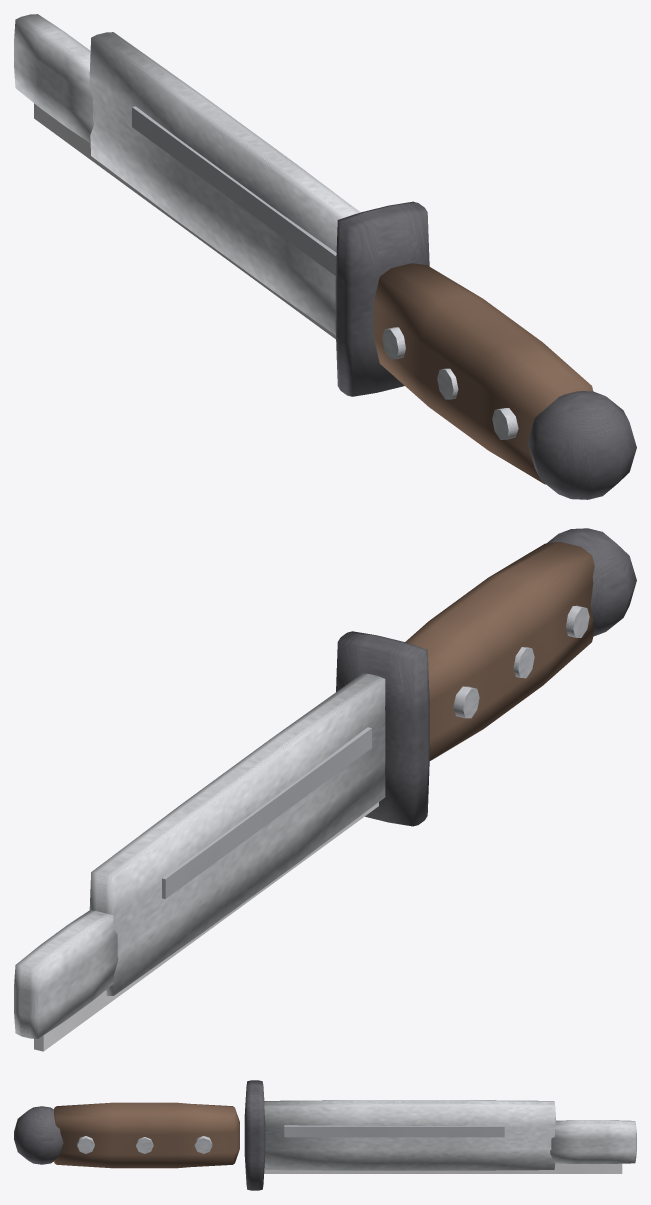
File: knife.glb
3 views of the same model, one above another, from view 1: azimuth 30°, elevation 25°; view 2: azimuth 150°, elevation 25°; view 3: azimuth 270°, elevation 25° (orthographic). The views are drawn at different scales.
Parts seen in each view (by area): view 1: knife_body; view 2: knife_body; view 3: knife_body.
Part boxes in pixels (bbox=[...]): knife_body: bbox=[14, 14, 636, 499]; knife_body: bbox=[14, 528, 636, 1051]; knife_body: bbox=[14, 1080, 636, 1190].
Size of the model in its own units: 0.04 by 0.07 by 0.424.
7 materials, 7 textured.
